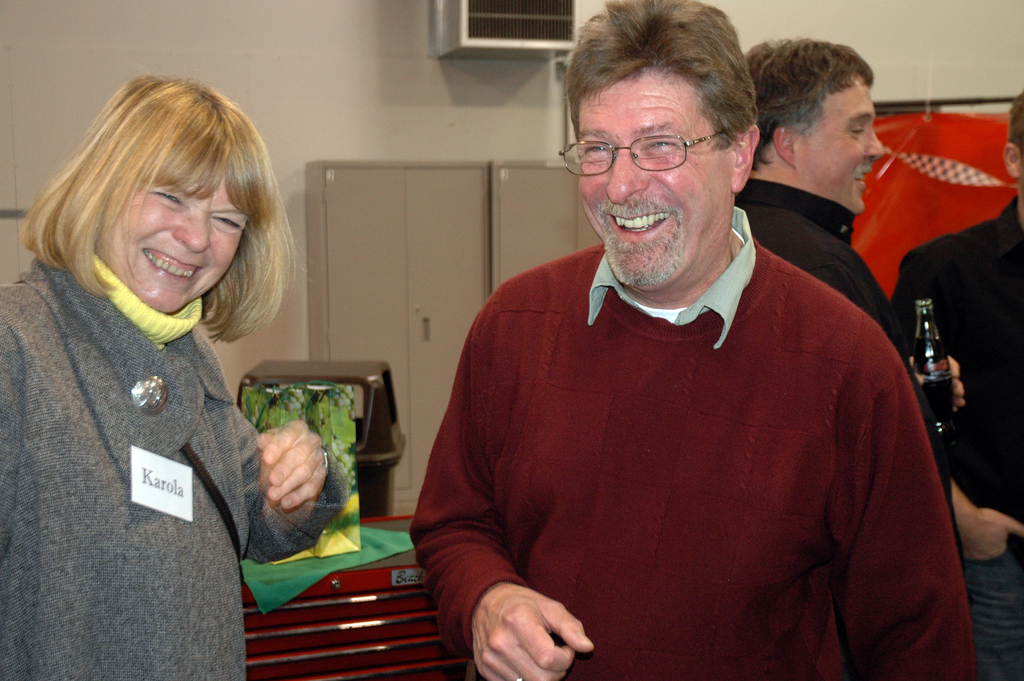Human-face: (573, 62, 723, 286), (89, 182, 259, 316), (788, 73, 885, 208)
